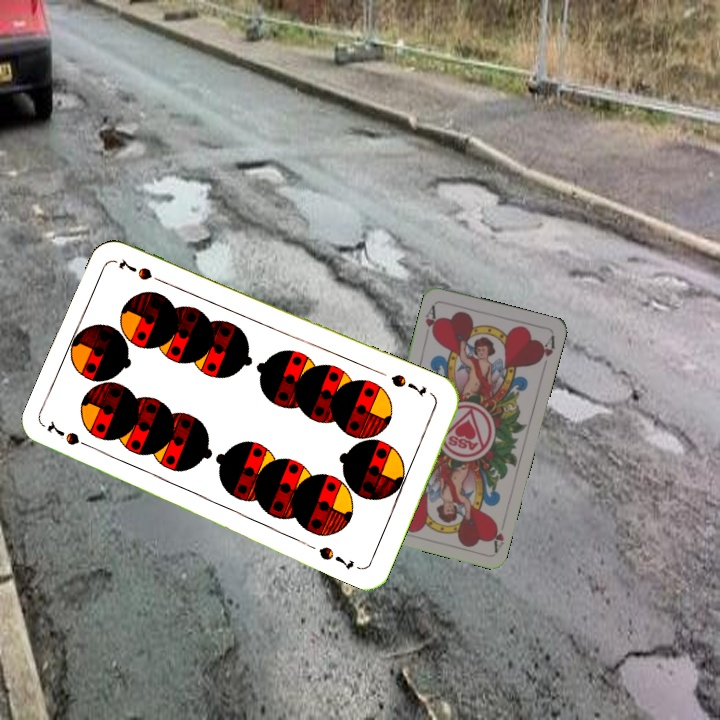HA: (421, 301, 441, 340), (486, 518, 506, 554)
S7: (42, 419, 99, 453), (387, 370, 430, 399)
